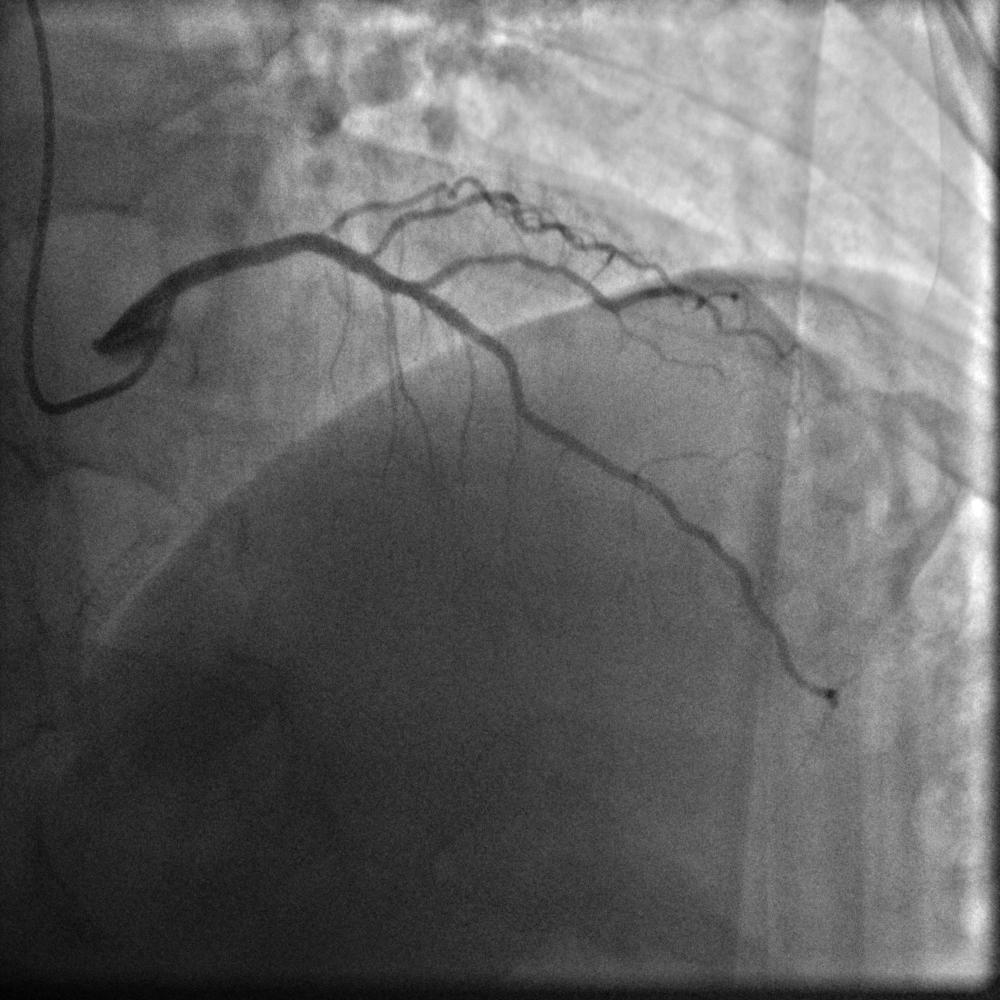Stenosis: (312, 210, 405, 256)
